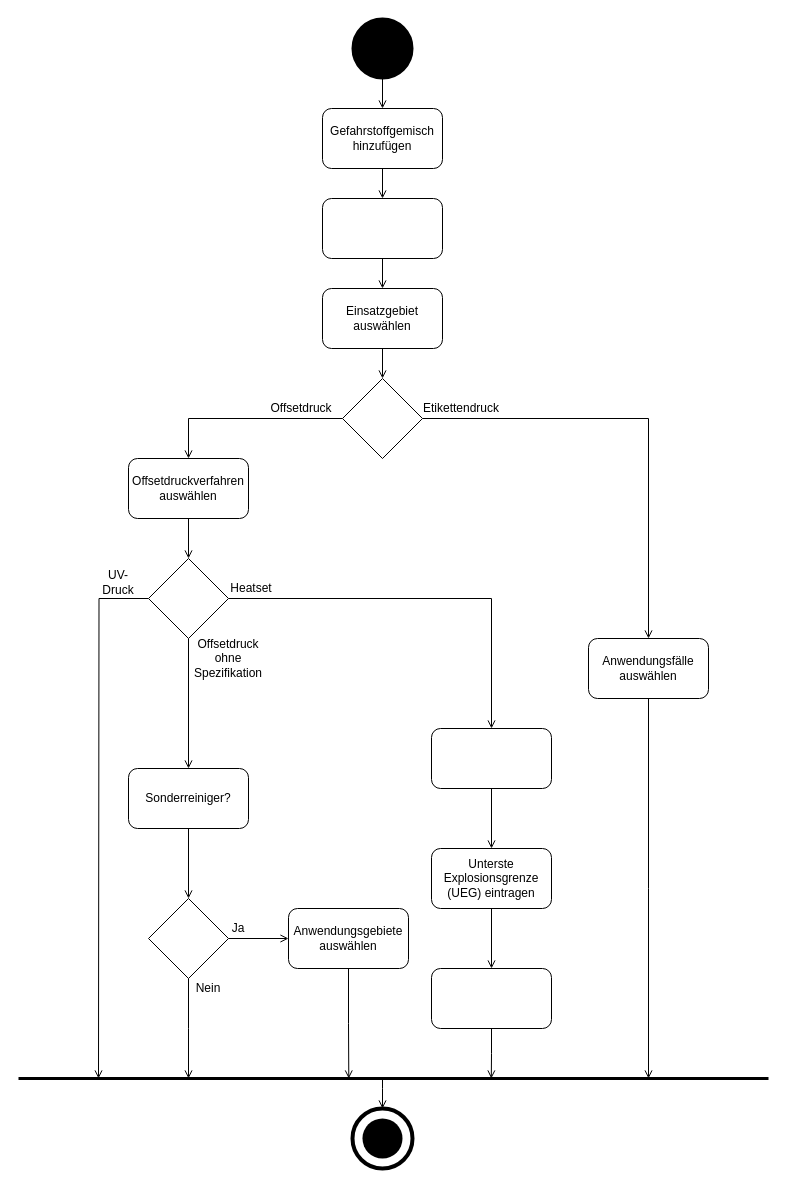
This 788x1187 diagram has some shape labels left out. Here are the shapes that lost their labels. From the top down, the centre of each, then its label:
At point 382,228: "Hersteller auswählen".
At point 491,758: "Verdampfungsfaktoren für Bahntemperaturen eintragen".
At point 491,998: "Responsefaktor eintragen".
